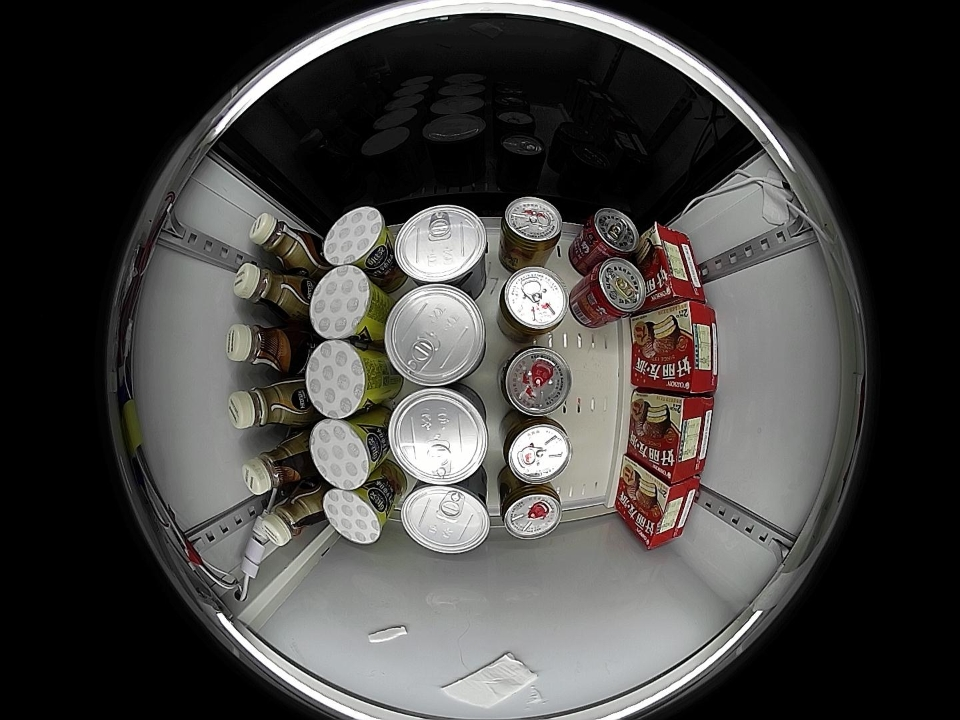haitai: (384, 284, 488, 388), (387, 385, 490, 485), (393, 204, 488, 287), (400, 480, 491, 554)
haoliyou: (653, 300, 717, 394), (649, 395, 714, 485), (643, 222, 706, 304), (634, 474, 701, 550)
hongniu: (499, 345, 573, 416), (499, 482, 562, 541)
hongniu2: (496, 267, 568, 340), (501, 415, 573, 484), (499, 196, 563, 261)
kafei: (233, 262, 311, 322), (241, 434, 312, 496), (248, 212, 319, 272), (227, 378, 307, 430), (257, 486, 324, 547), (225, 323, 302, 375)
kebike: (306, 339, 381, 419), (309, 266, 384, 341), (309, 417, 384, 490), (322, 207, 393, 272), (323, 485, 390, 545)
wangzainiunai: (581, 257, 646, 324), (578, 207, 641, 264)
